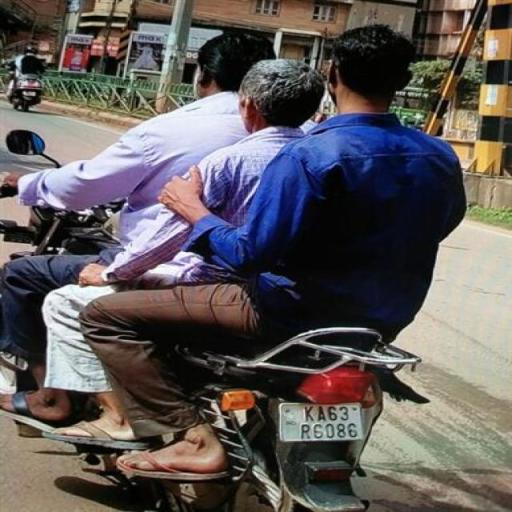tripple riding: (0, 26, 479, 340)
